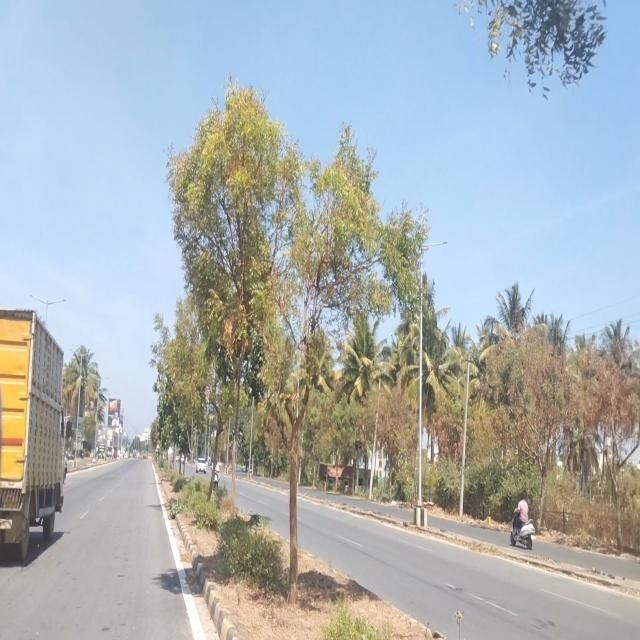bien_nguy_hiem: (154, 442, 160, 454)
